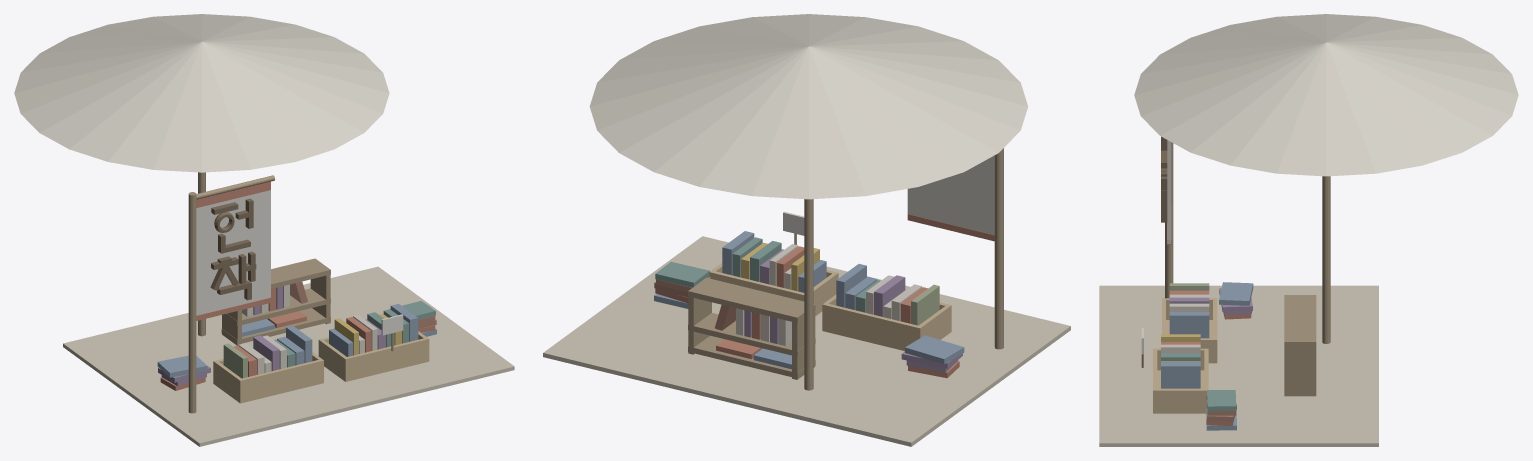
File: stall-books.glb
3 renders of one model, left to right at view 1: azimuth 30°, elevation 25°; view 2: azimuth 150°, elevation 25°; view 3: azimuth 270°, elevation 25°, orthographic. The views are drawn at different scales.
Visible parts, largest first — view 1: part_14, part_11, part_05, part_13, part_09, part_02, part_00, part_07, part_12, part_03, part_01, part_04 (+1 smaller); view 2: part_14, part_11, part_05, part_09, part_13, part_02, part_07, part_01, part_12, part_03, part_04, part_06 (+1 smaller); view 3: part_14, part_11, part_05, part_09, part_02, part_01, part_12, part_07, part_03, part_00, part_13.
Part boxes in pixels (bbox=[...]): part_14: bbox=[14, 14, 389, 172]; part_11: bbox=[63, 266, 514, 446]; part_05: bbox=[188, 172, 393, 413]; part_13: bbox=[196, 190, 270, 315]; part_09: bbox=[213, 331, 429, 403]; part_02: bbox=[157, 303, 436, 377]; part_00: bbox=[210, 198, 256, 300]; part_07: bbox=[160, 181, 435, 390]; part_12: bbox=[238, 284, 377, 374]; part_03: bbox=[158, 286, 385, 386]; part_01: bbox=[274, 300, 435, 367]; part_04: bbox=[223, 343, 247, 378]; part_14: bbox=[589, 14, 1028, 199]; part_11: bbox=[543, 236, 1070, 446]; part_05: bbox=[688, 148, 1003, 390]; part_09: bbox=[709, 263, 951, 350]; part_13: bbox=[907, 155, 994, 234]; part_02: bbox=[654, 231, 964, 369]; part_07: bbox=[655, 214, 994, 378]; part_01: bbox=[655, 237, 880, 312]; part_12: bbox=[736, 244, 922, 345]; part_03: bbox=[744, 249, 962, 372]; part_04: bbox=[911, 284, 939, 325]; part_06: bbox=[654, 277, 735, 330]; part_14: bbox=[1134, 14, 1518, 176]; part_11: bbox=[1099, 285, 1378, 446]; part_05: bbox=[1141, 142, 1330, 396]; part_09: bbox=[1153, 298, 1217, 413]; part_02: bbox=[1161, 282, 1253, 430]; part_01: bbox=[1161, 353, 1236, 411]; part_12: bbox=[1161, 294, 1209, 353]; part_07: bbox=[1161, 203, 1251, 426]; part_03: bbox=[1169, 288, 1252, 315]; part_00: bbox=[1161, 136, 1167, 222]; part_13: bbox=[1167, 140, 1170, 243].
Bounding box in the file's own units: 7.4 × 5.75 × 7.2.
